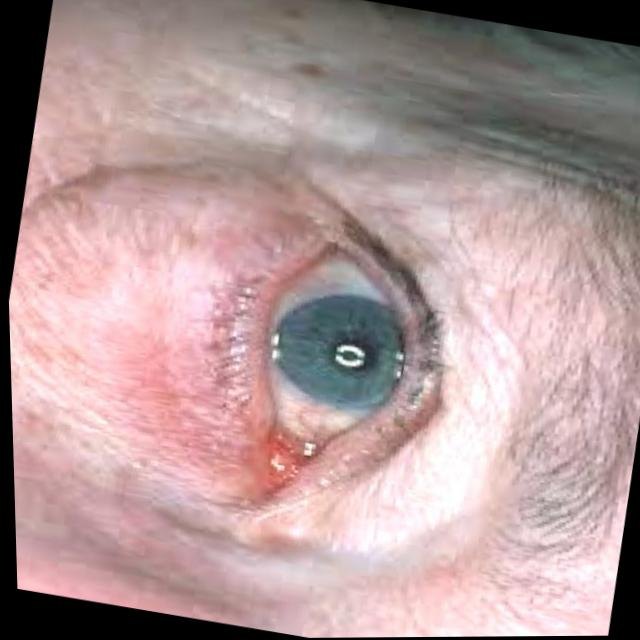Rosacea: (185, 226, 450, 517)
